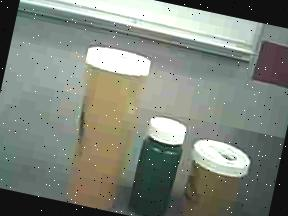Bottle A: (47, 37, 156, 214)
Bottle B: (176, 133, 256, 216)
Bottle C: (126, 111, 191, 216)
